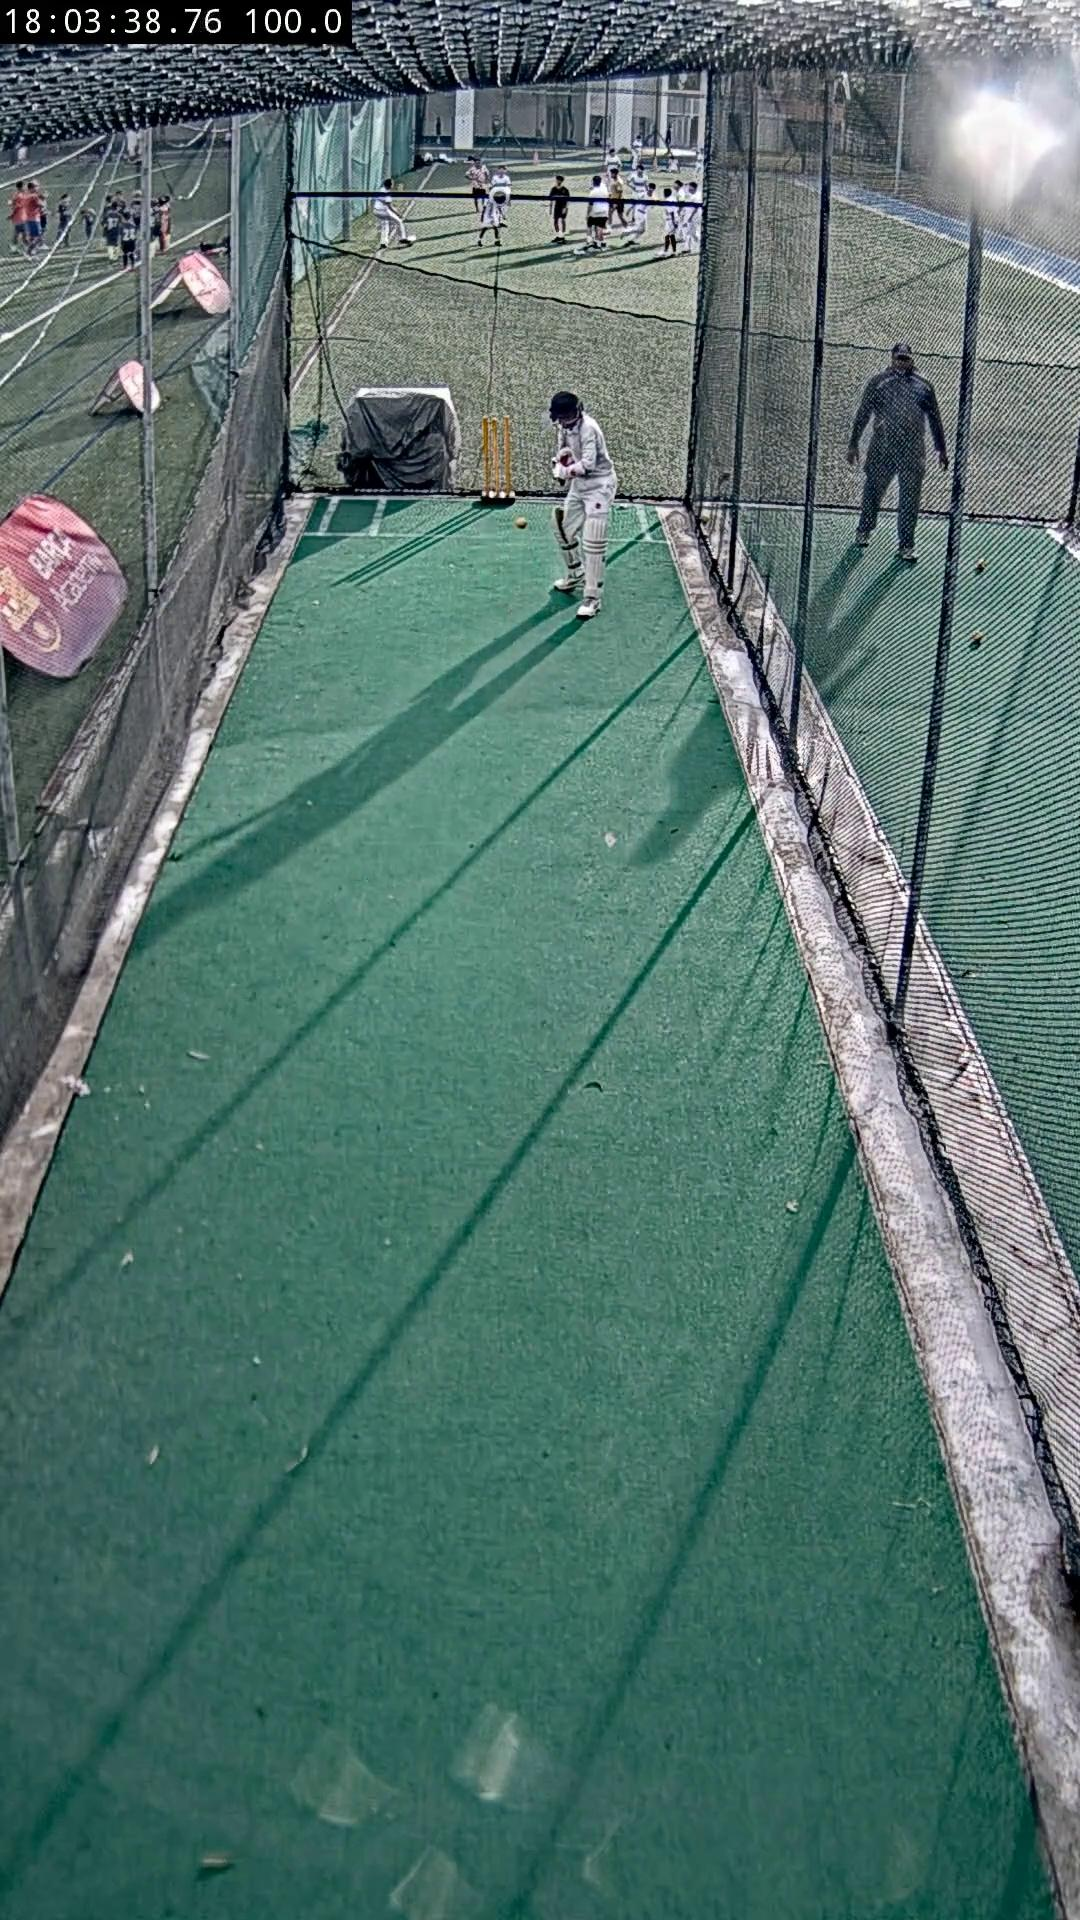ball: (514, 517, 529, 529)
gloves: (551, 446, 574, 480)
helmet: (551, 390, 582, 418)
pads: (582, 514, 608, 599), (555, 506, 574, 564)
stumps: (480, 417, 514, 501)
